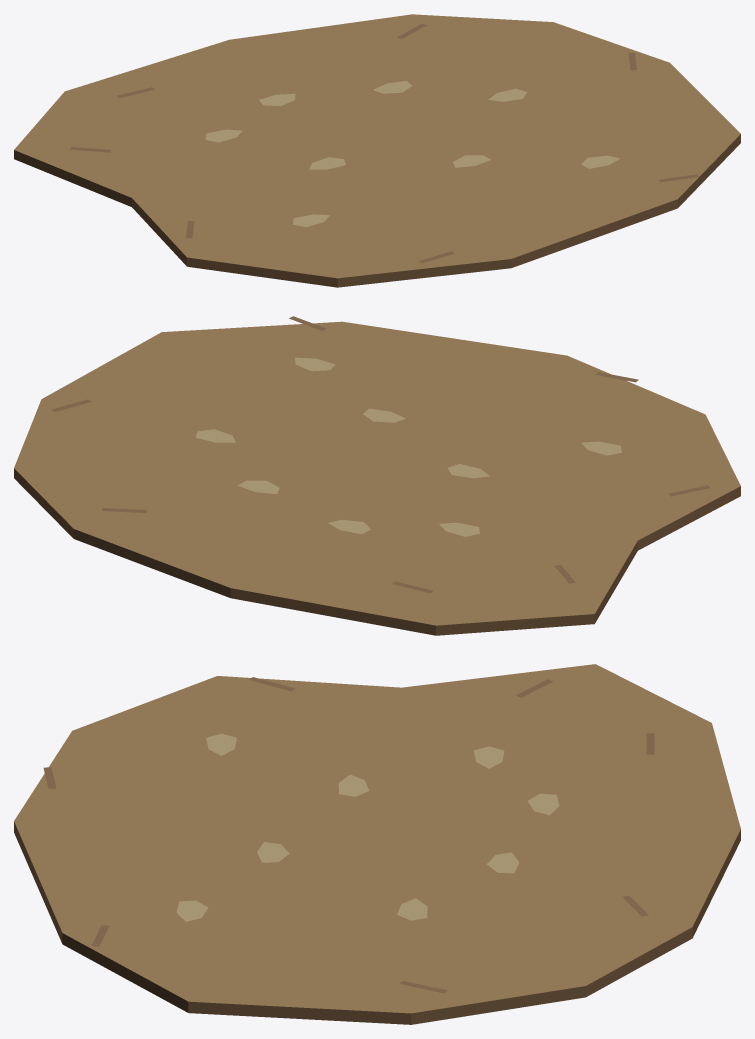
The model's file is TannedDeerHide.glb.
3 renders of one model, top to bottom at view 1: azimuth 30°, elevation 25°; view 2: azimuth 150°, elevation 25°; view 3: azimuth 270°, elevation 25°, orthographic. The views are drawn at different scales.
Parts seen in each view (by area): view 1: TannedDeerHide; view 2: TannedDeerHide; view 3: TannedDeerHide.
Part boxes in pixels (x1,y1,x2,y2): TannedDeerHide: (14, 14, 740, 287); TannedDeerHide: (14, 316, 740, 635); TannedDeerHide: (14, 664, 740, 1024).
Bounding box in the file's own units: 1.64 × 0.04 × 1.44.
